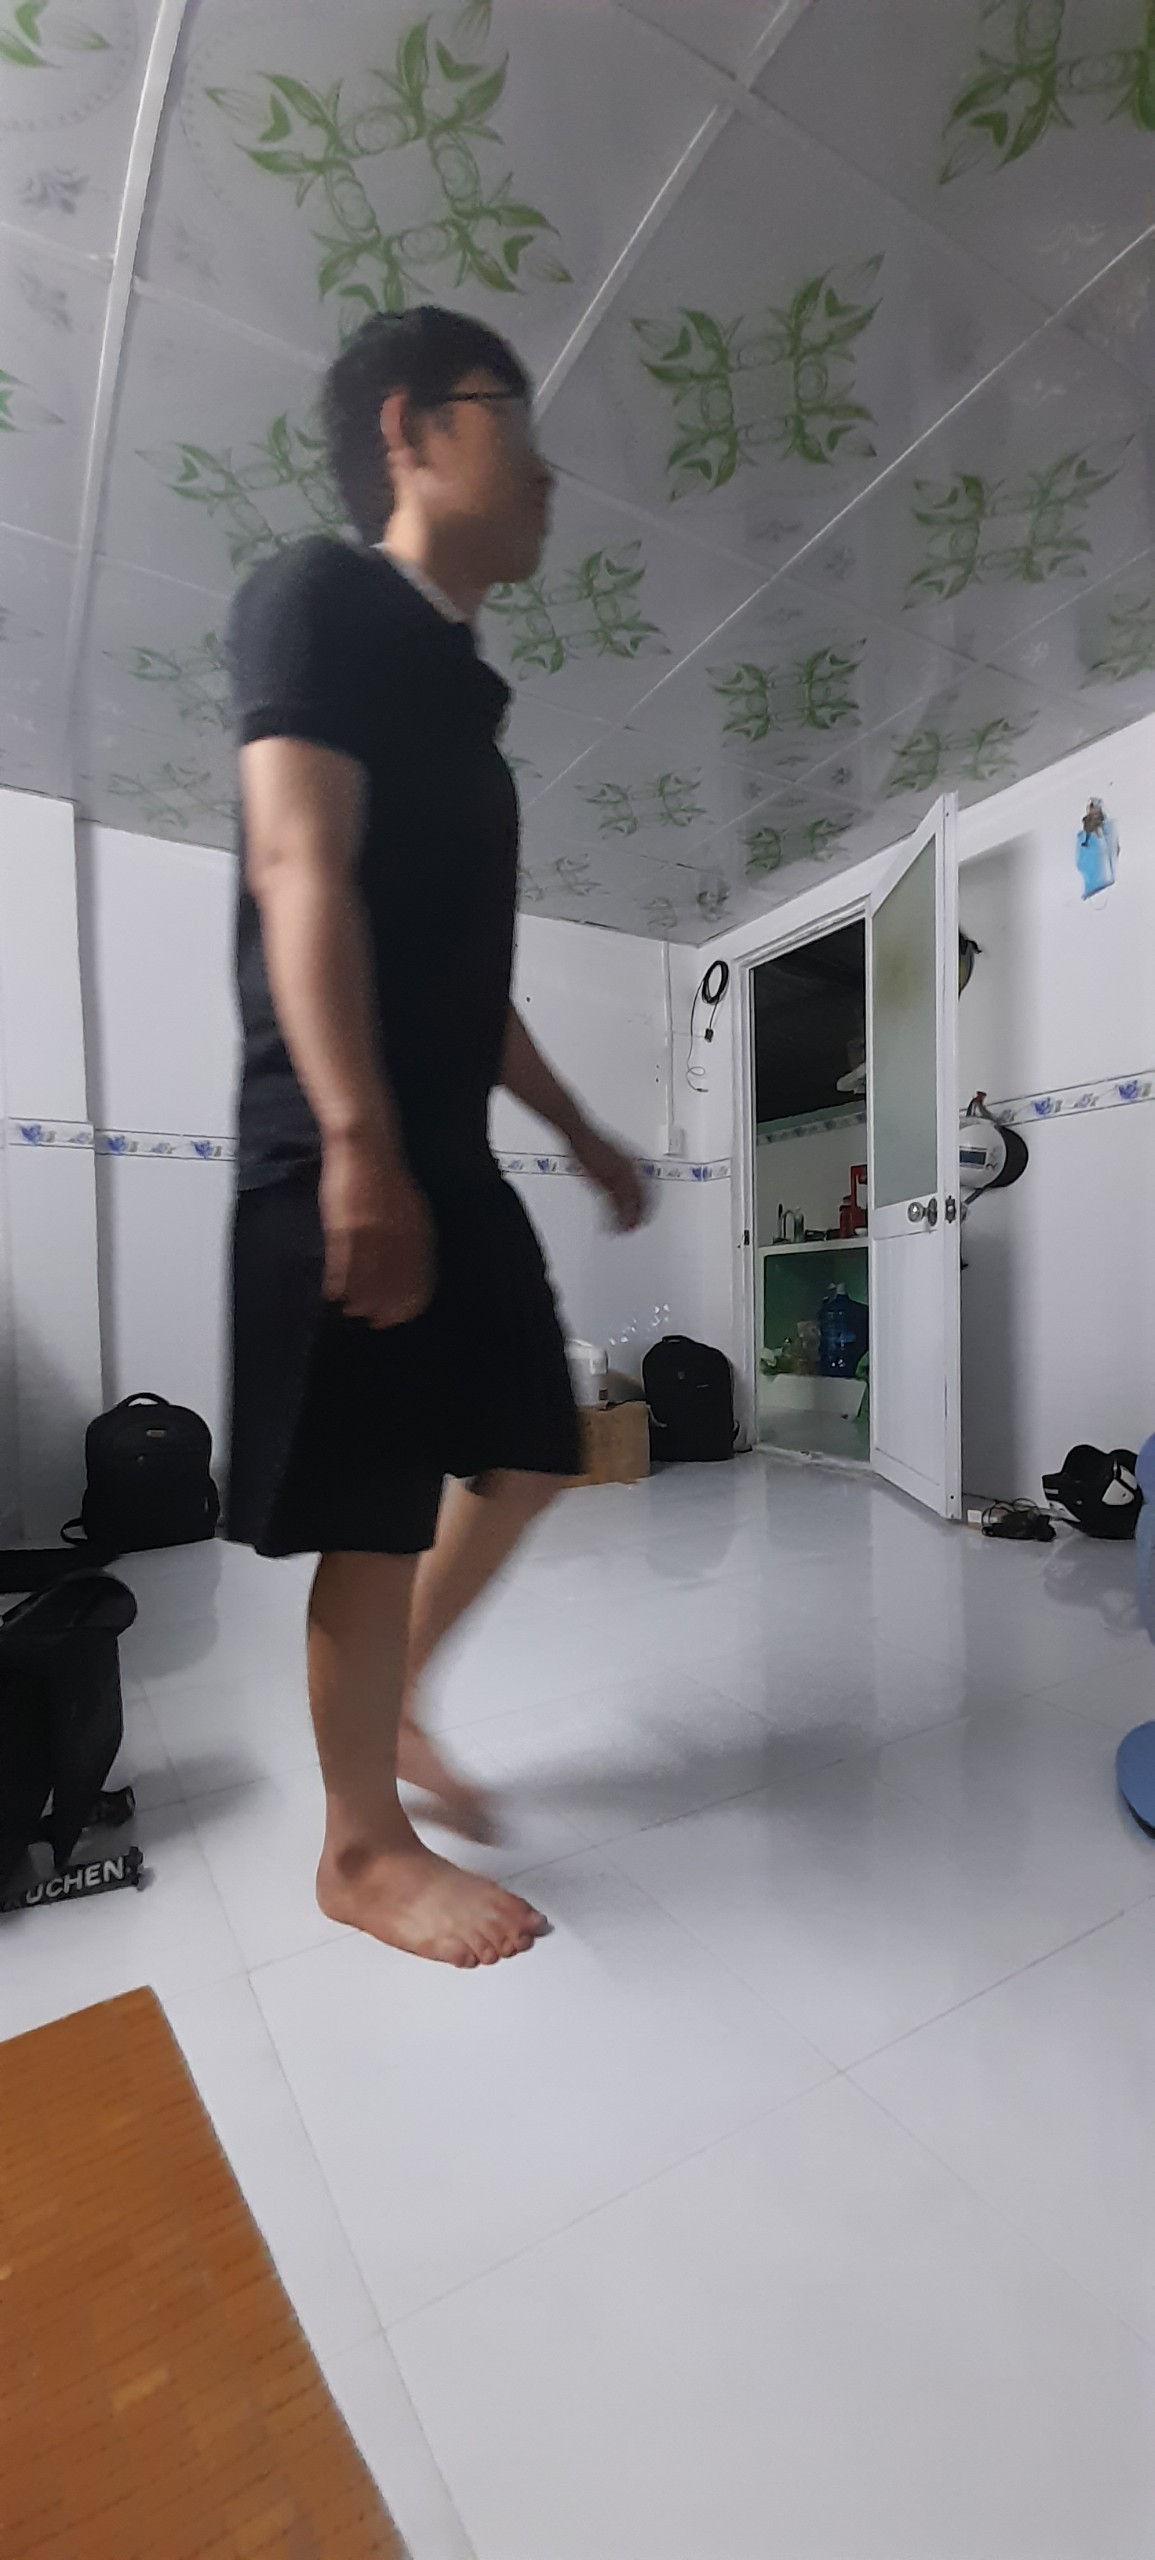person: (227, 309, 587, 1968)
